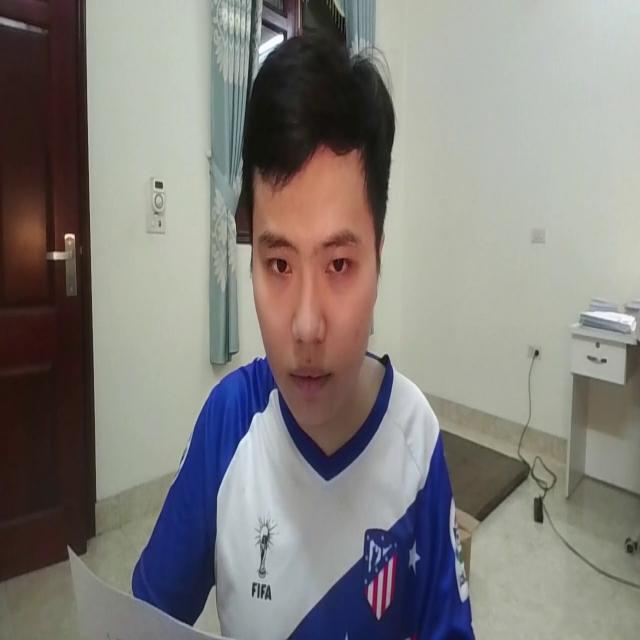book: (52, 522, 239, 640)
student: (128, 28, 480, 640)
